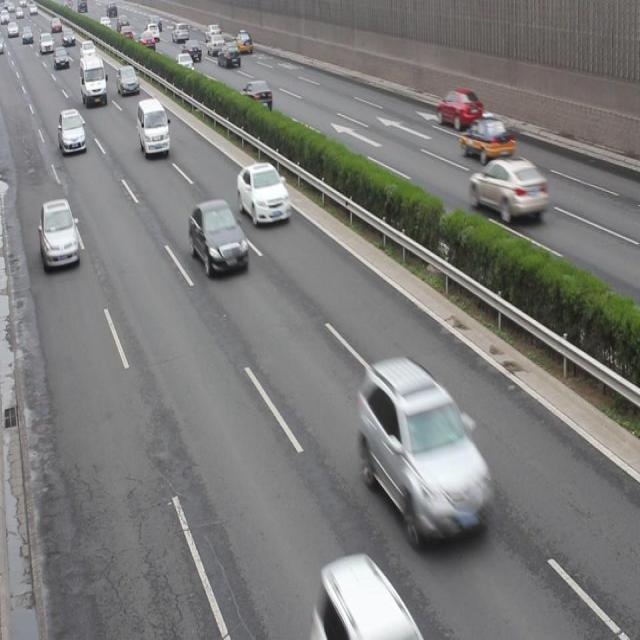car: (356, 353, 489, 542), (310, 551, 426, 640), (467, 155, 547, 220), (189, 196, 247, 276), (237, 160, 290, 226), (38, 197, 80, 272), (457, 115, 514, 165), (435, 85, 483, 130), (57, 107, 86, 158), (242, 77, 273, 114)
truck: (136, 97, 170, 155)
